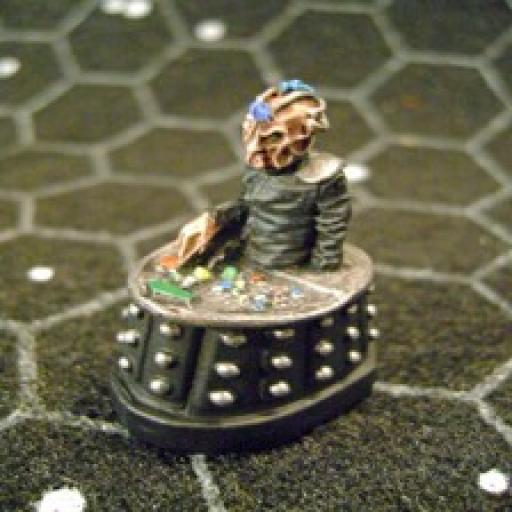dalek: (107, 78, 378, 436)
